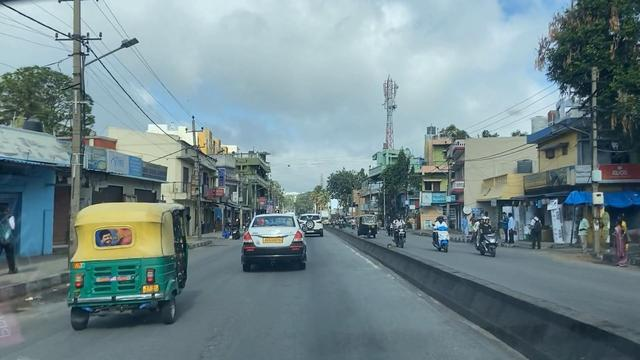LMV: (69, 203, 187, 336), (240, 214, 308, 269)
